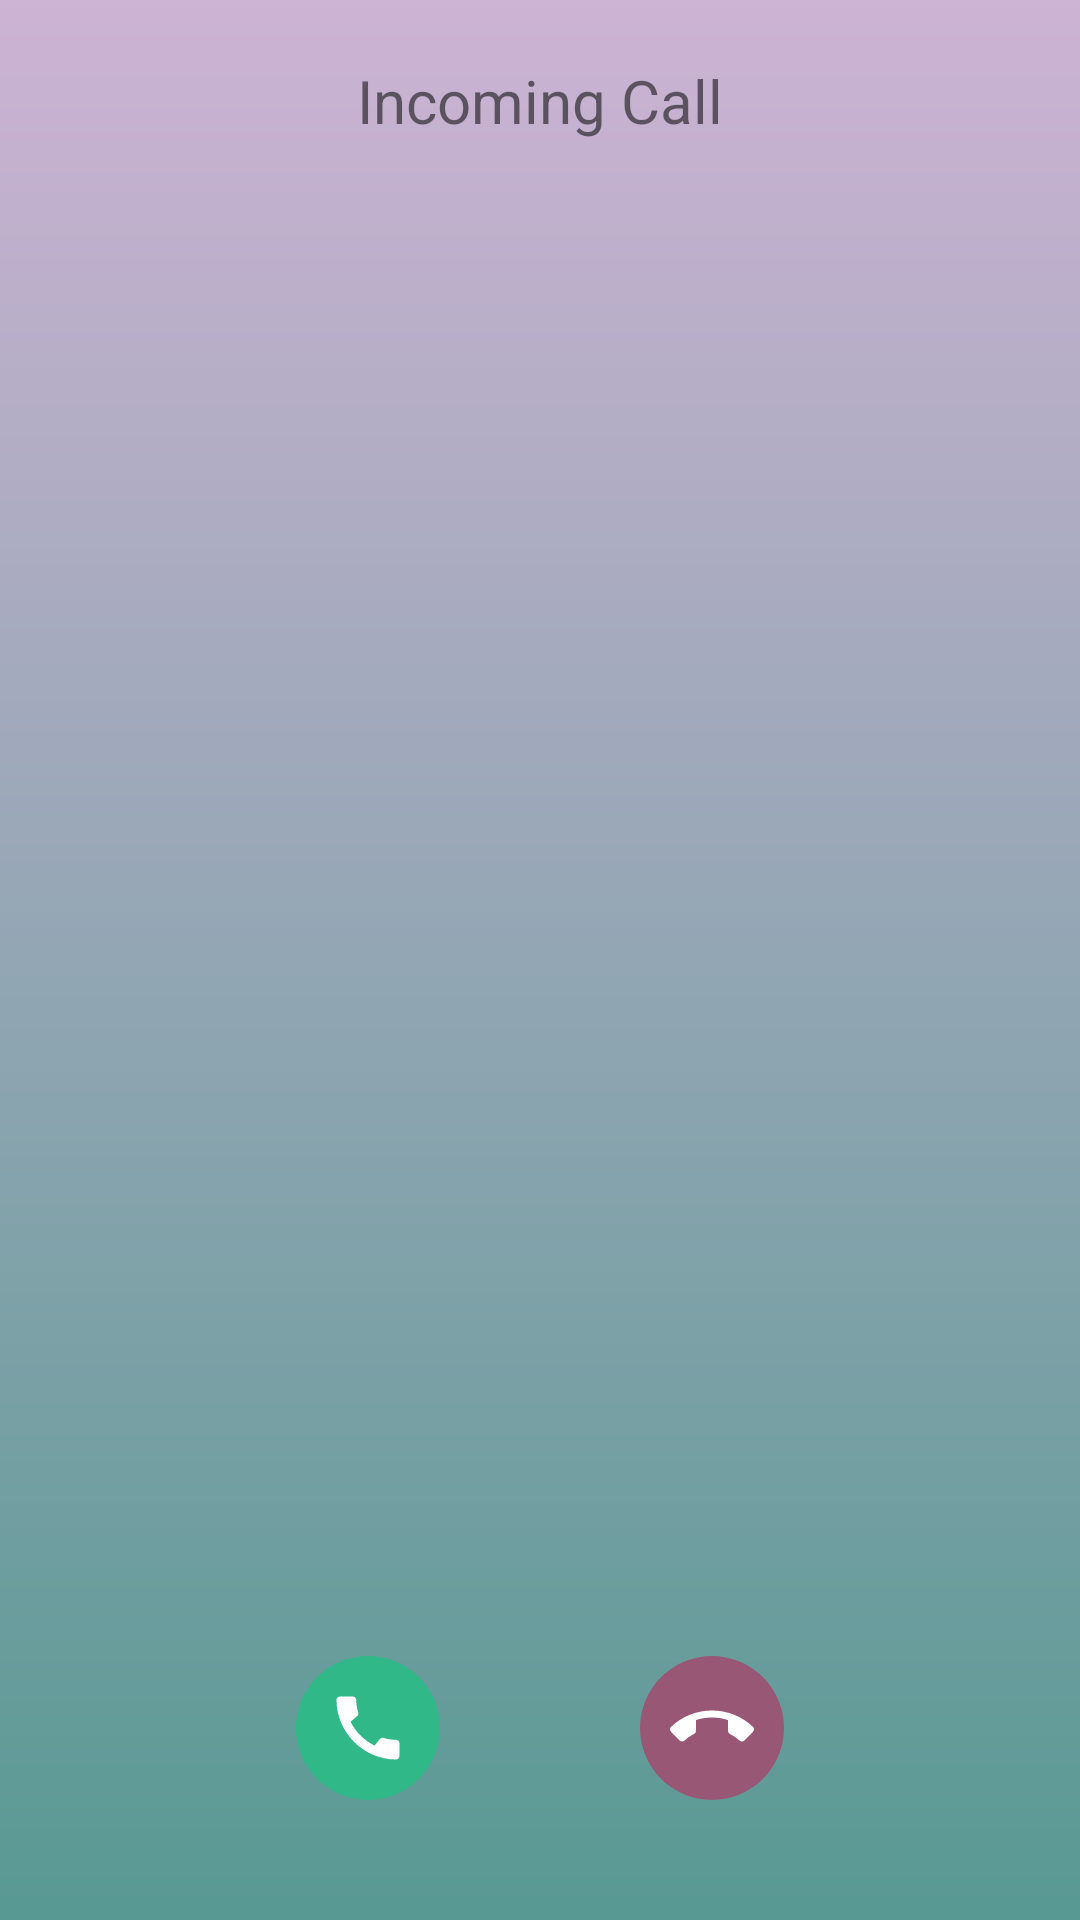

Point at icon controls on the screen. Image size 1080w x 1920h, points as (x,y).
call: (368,1728)
call end: (712,1728)
